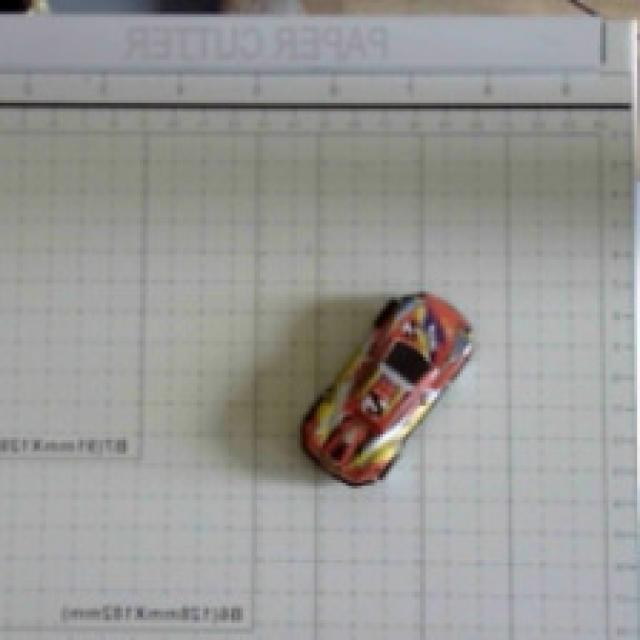Red Car: (256, 262, 506, 534)
